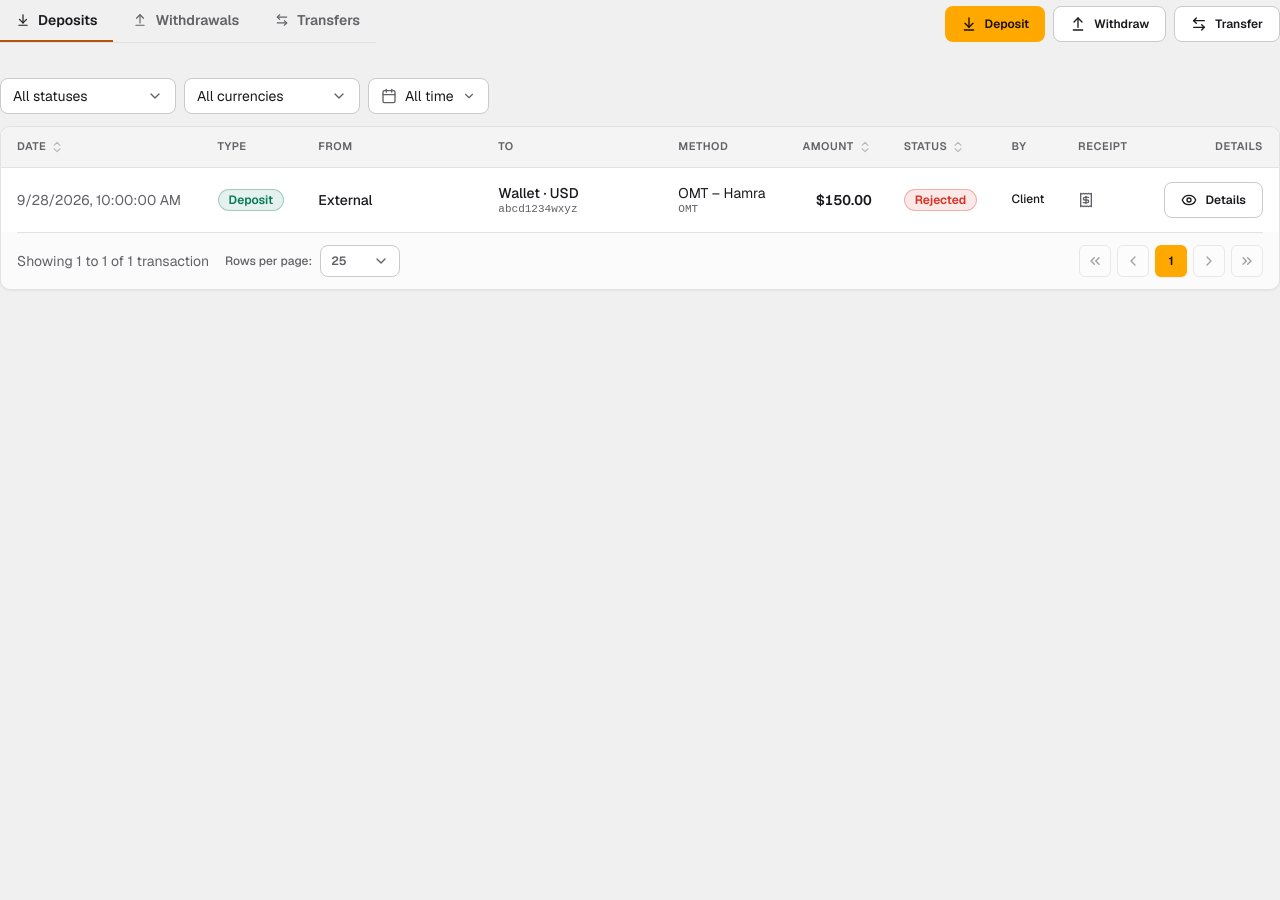
Test case: the Transactions tab › opens Details with the receipt, the reason and when it was decided
Step 1. Click the button with aria-label "details of $150.00" → (1214, 200), box [1164,182,1263,218]
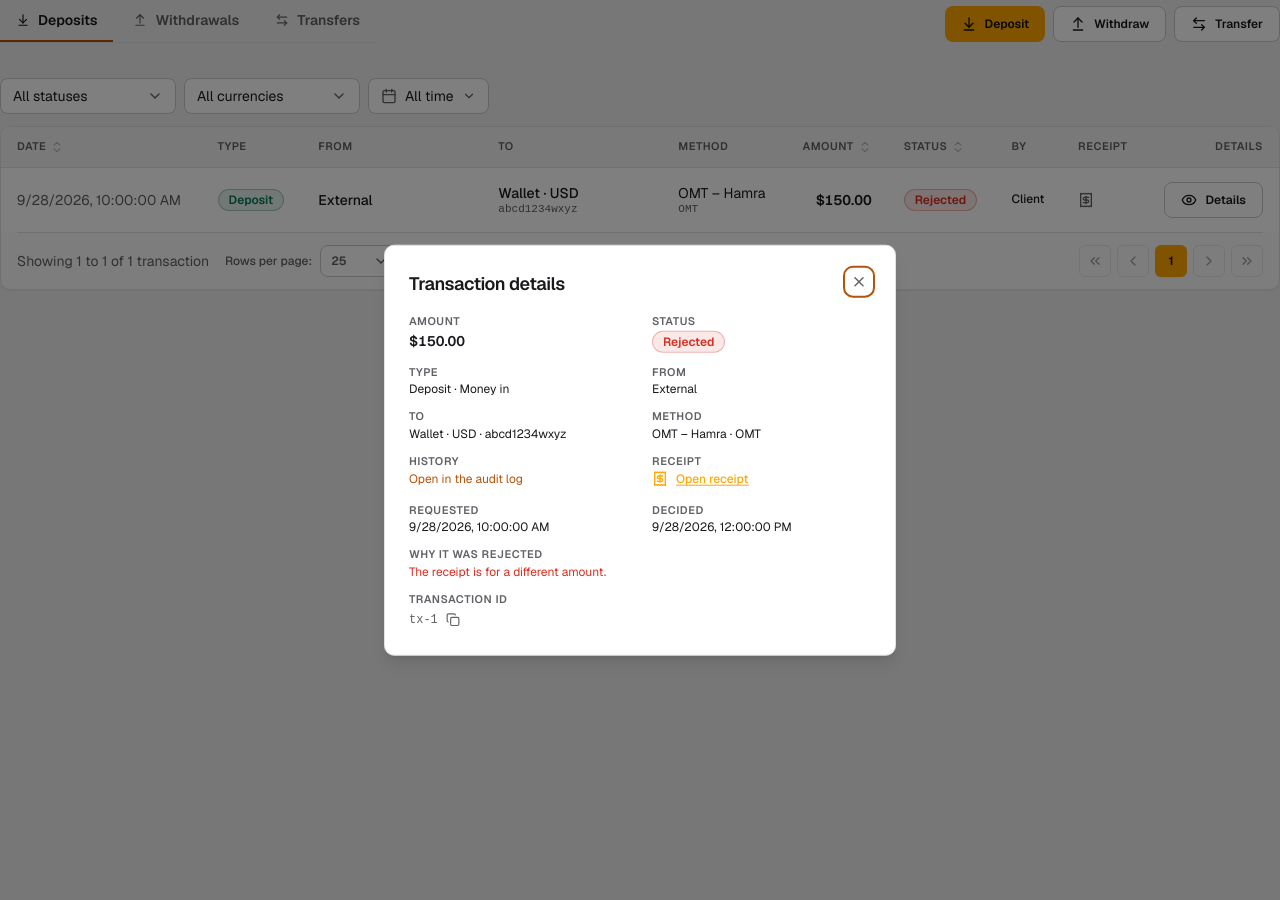
Check: the text "OMT – Hamra · OMT" is shown, box [652,426,761,442]
Check: the text "The receipt is for a different amount." is shown, box [409,564,606,580]
Check: the text "Why it was rejected" is shown, box [409,547,542,561]
